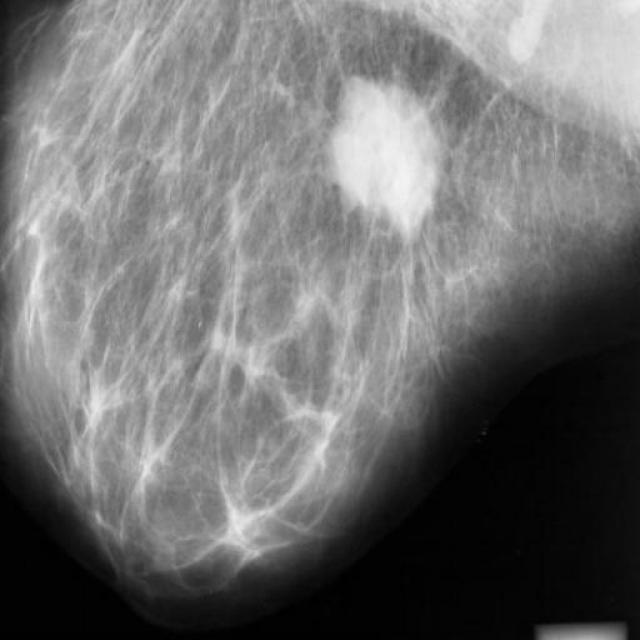cancer: (322, 81, 457, 228)
